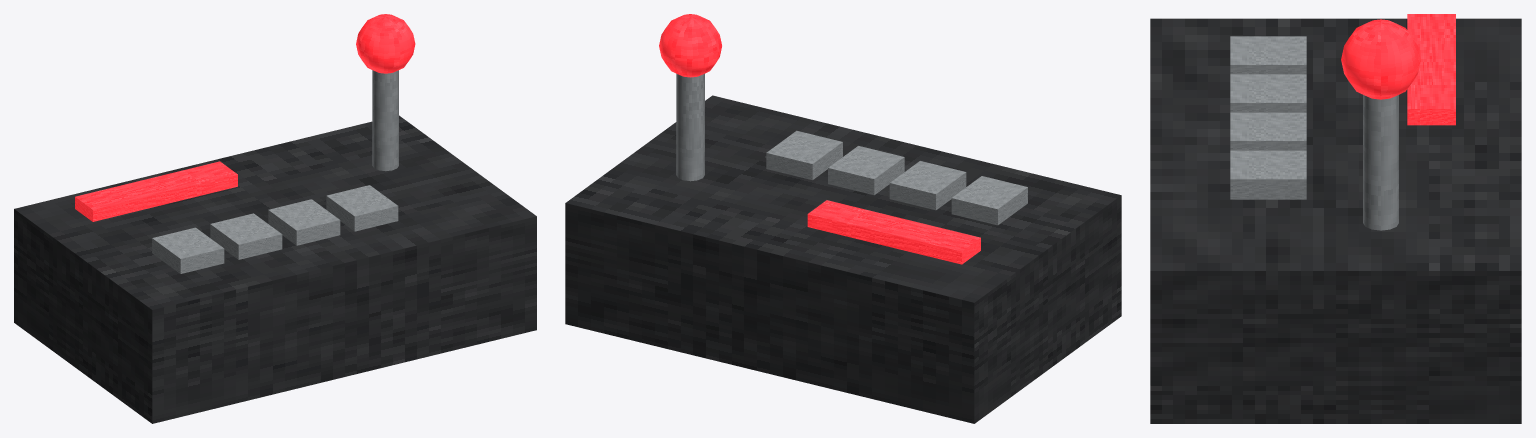
The model's file is mira-severance-cut.glb.
3 views of the same model, side by side, from view 1: azimuth 30°, elevation 25°; view 2: azimuth 150°, elevation 25°; view 3: azimuth 270°, elevation 25° (orthographic). The views are drawn at different scales.
Visible parts, largest first — view 1: edit console, edit switch (×4), armed indicator, lever grip, lever stem; view 2: edit console, edit switch (×4), armed indicator, lever grip, lever stem; view 3: edit console, edit switch (×4), armed indicator, lever grip, lever stem.
Boxes of the visible parts, box(x1,y1,x2,y2) form: edit console: box(14, 115, 536, 423); edit switch (×4): box(152, 185, 398, 273); armed indicator: box(75, 161, 237, 221); lever grip: box(356, 14, 415, 73); lever stem: box(372, 70, 398, 171); edit console: box(565, 95, 1121, 423); edit switch (×4): box(766, 130, 1027, 225); armed indicator: box(807, 200, 980, 264); lever grip: box(659, 14, 721, 77); lever stem: box(676, 73, 704, 181); edit console: box(1150, 18, 1521, 423); edit switch (×4): box(1230, 36, 1306, 199); armed indicator: box(1407, 14, 1455, 125); lever grip: box(1341, 19, 1420, 99); lever stem: box(1363, 95, 1398, 230).
Size of the model in its own units: 1.06 by 0.702 by 0.66.
3 materials, 3 textured.
